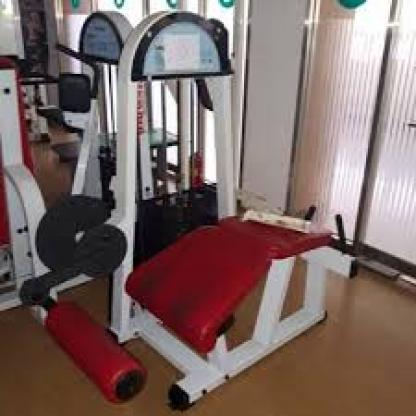reg curl machine: (20, 10, 364, 410)
